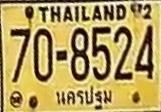0: (34, 28, 52, 81)
2: (113, 26, 133, 79)
4: (134, 24, 154, 78)
5: (92, 26, 110, 80)
7: (10, 28, 30, 81)
8: (70, 27, 88, 80)
NPT: (53, 85, 113, 112)
